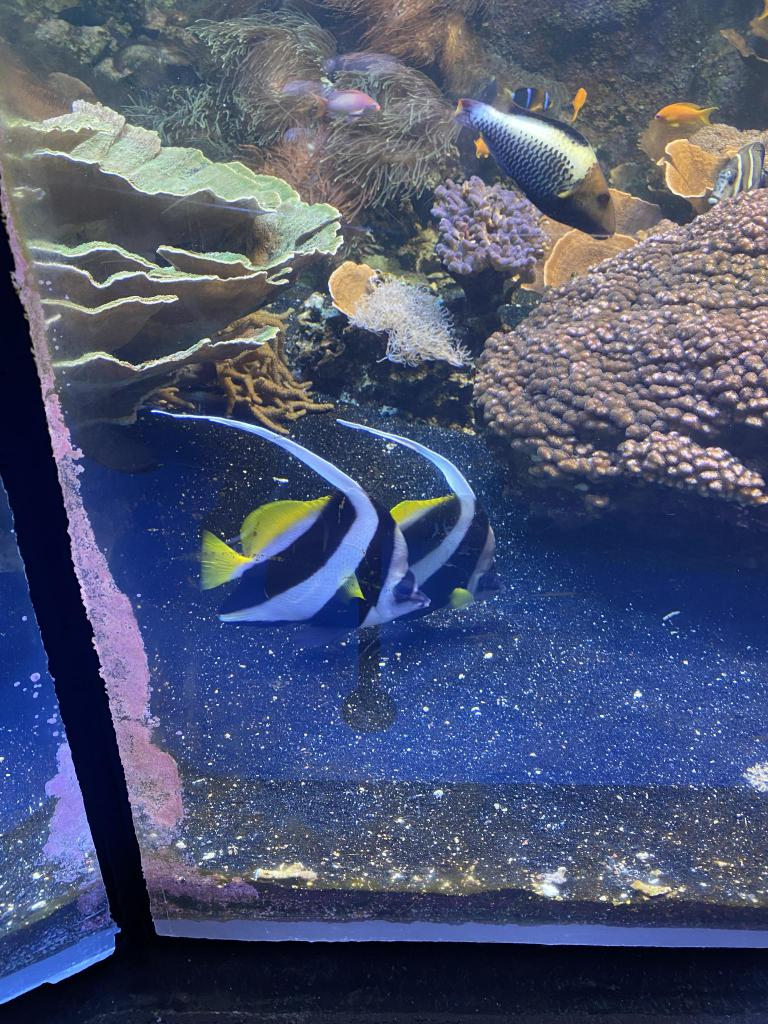fish: (200, 497, 432, 633), (450, 95, 618, 241), (334, 495, 498, 613), (708, 143, 768, 199), (313, 88, 379, 116), (654, 101, 718, 127)
